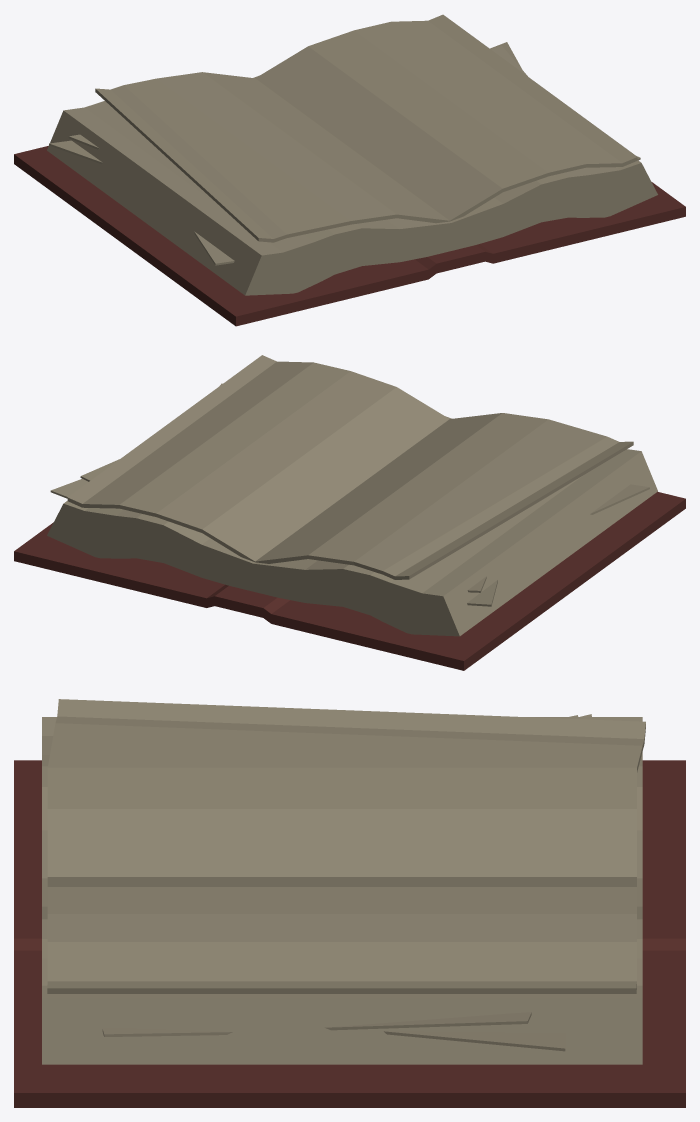
Rendered from openbook.glb.
The picture shows the model from 3 angles, top to bottom: view 1: azimuth 30°, elevation 25°; view 2: azimuth 150°, elevation 25°; view 3: azimuth 270°, elevation 25°; orthographic projection. The views are drawn at different scales.
Visible parts, largest first — view 1: Book1_Open; view 2: Book1_Open; view 3: Book1_Open.
Boxes of the visible parts, x1,y1,x2,y2 form: Book1_Open: (14, 14, 685, 326); Book1_Open: (14, 355, 685, 670); Book1_Open: (14, 699, 685, 1107).
Bounding box in the file's own units: 0.873 × 0.1263 × 0.7401.
